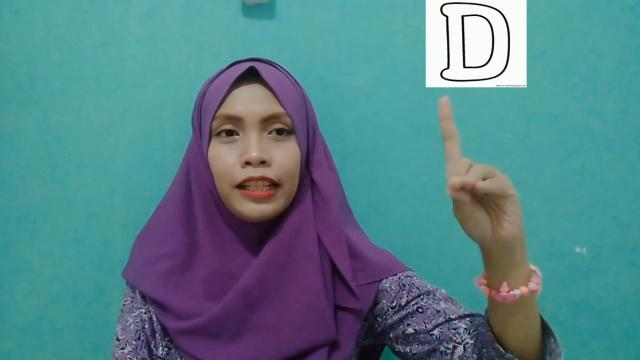D: (436, 93, 530, 257)
